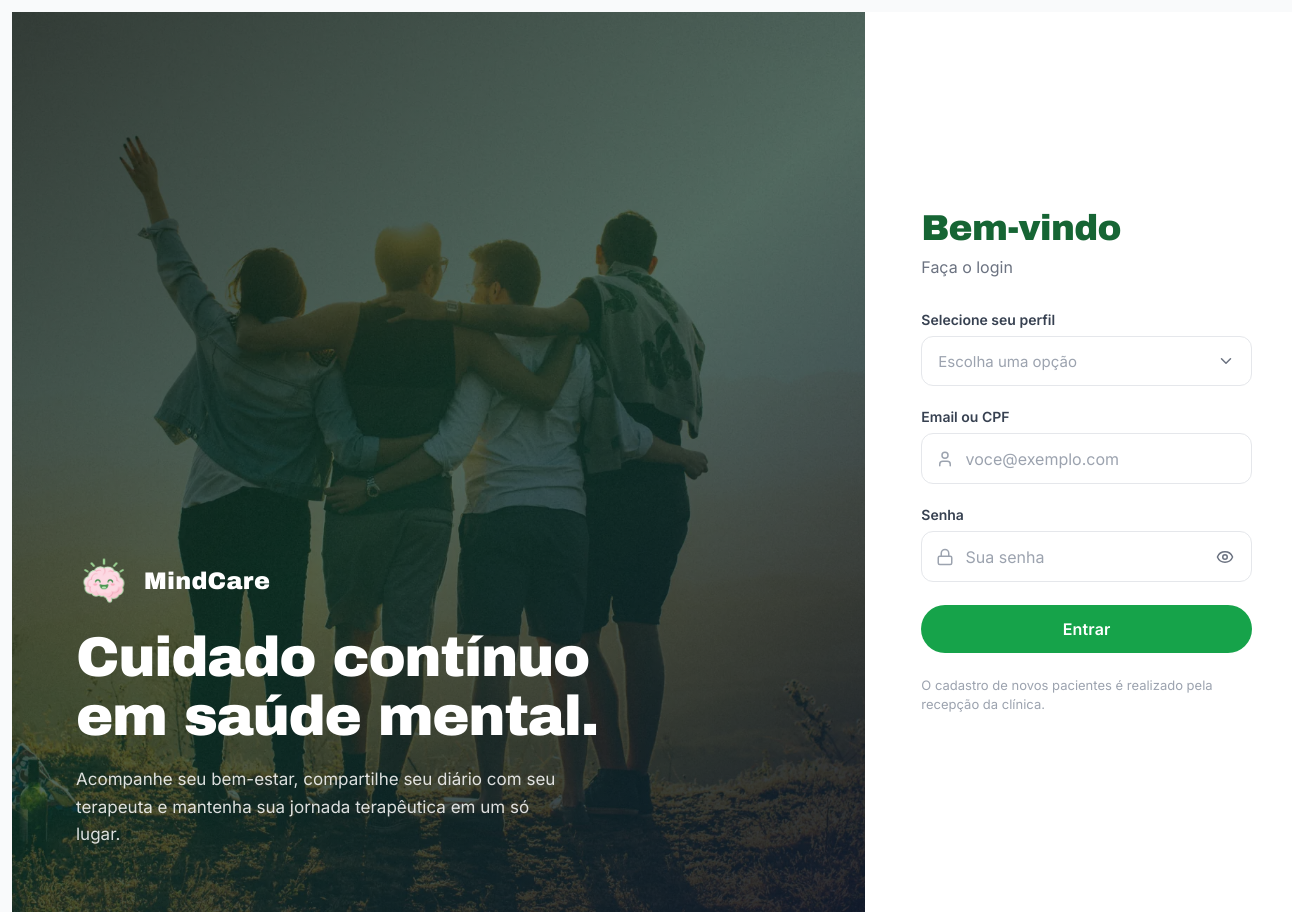
Test case: Tela de Login › redireciona paciente autenticado
Click the button "Escolha uma opção" at (1008,361), box [921,336,1252,386]
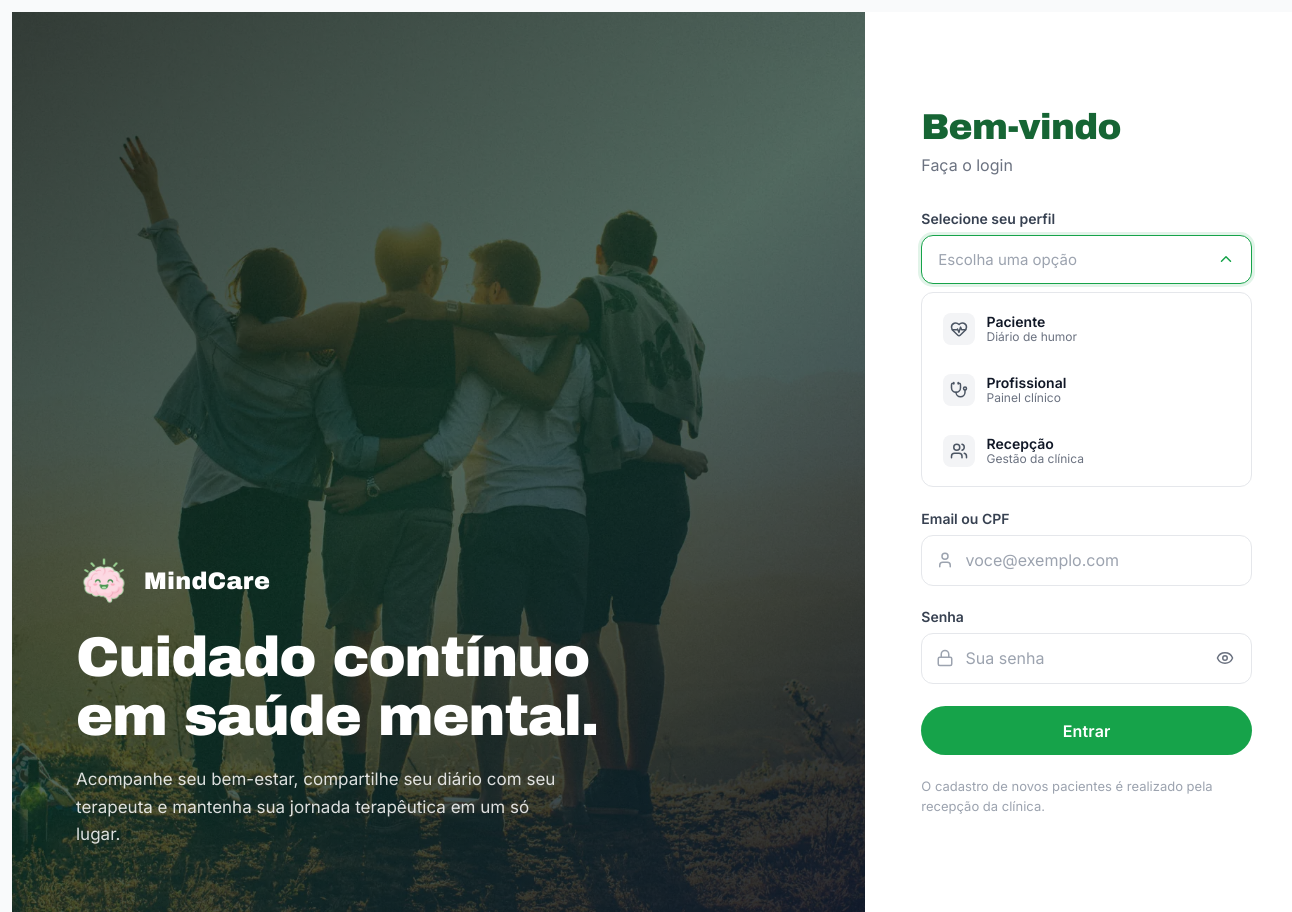
Click the option "Paciente Diário de humor" at (959,329), box [930,301,1243,356]
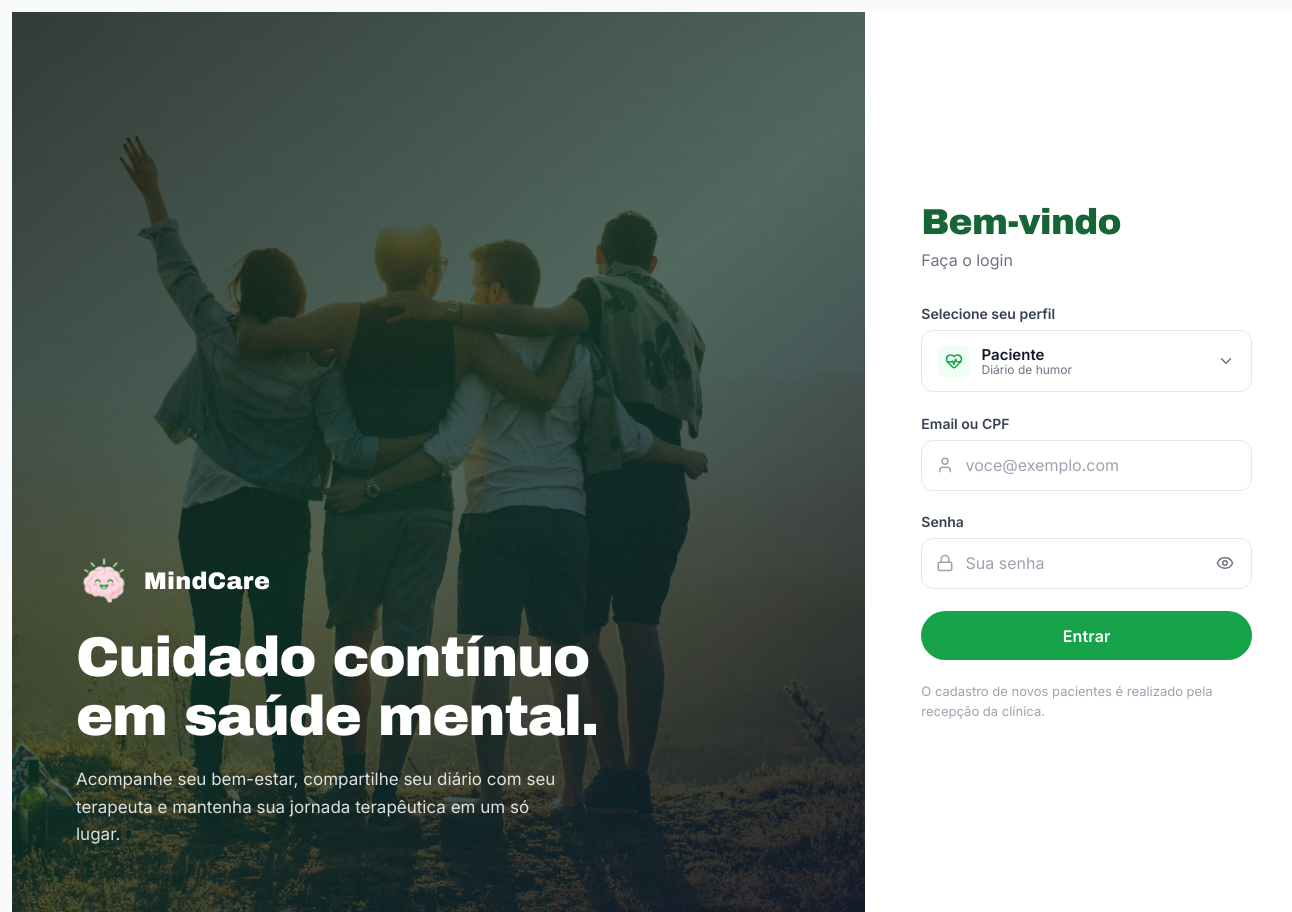
Type "usuario@teste.com" into the field labelled "Email ou CPF" at (1087,465), box [921,440,1252,491]
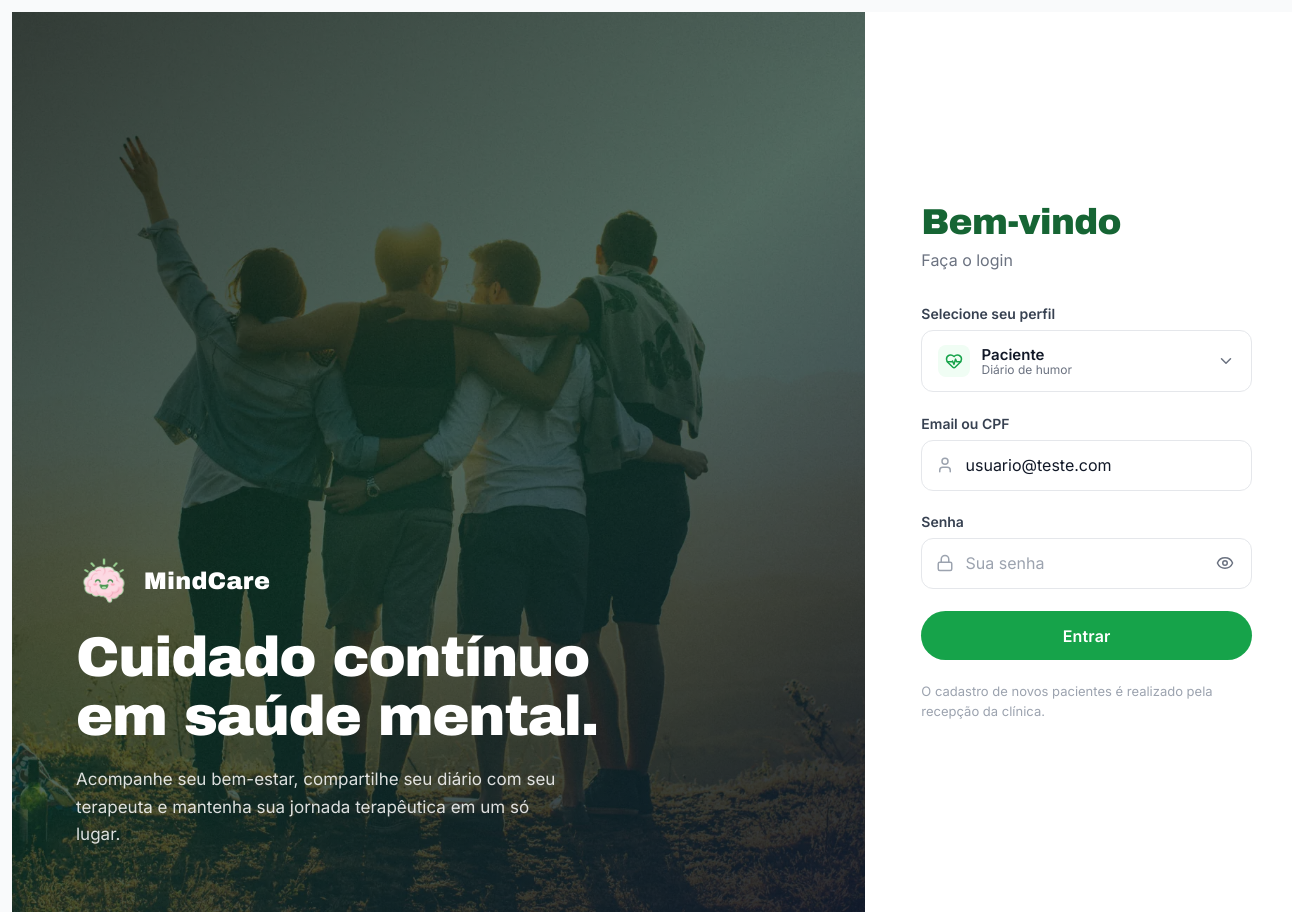
Type "senhaTeste" into the password field labelled "Senha" at (1087,563), box [921,538,1252,589]
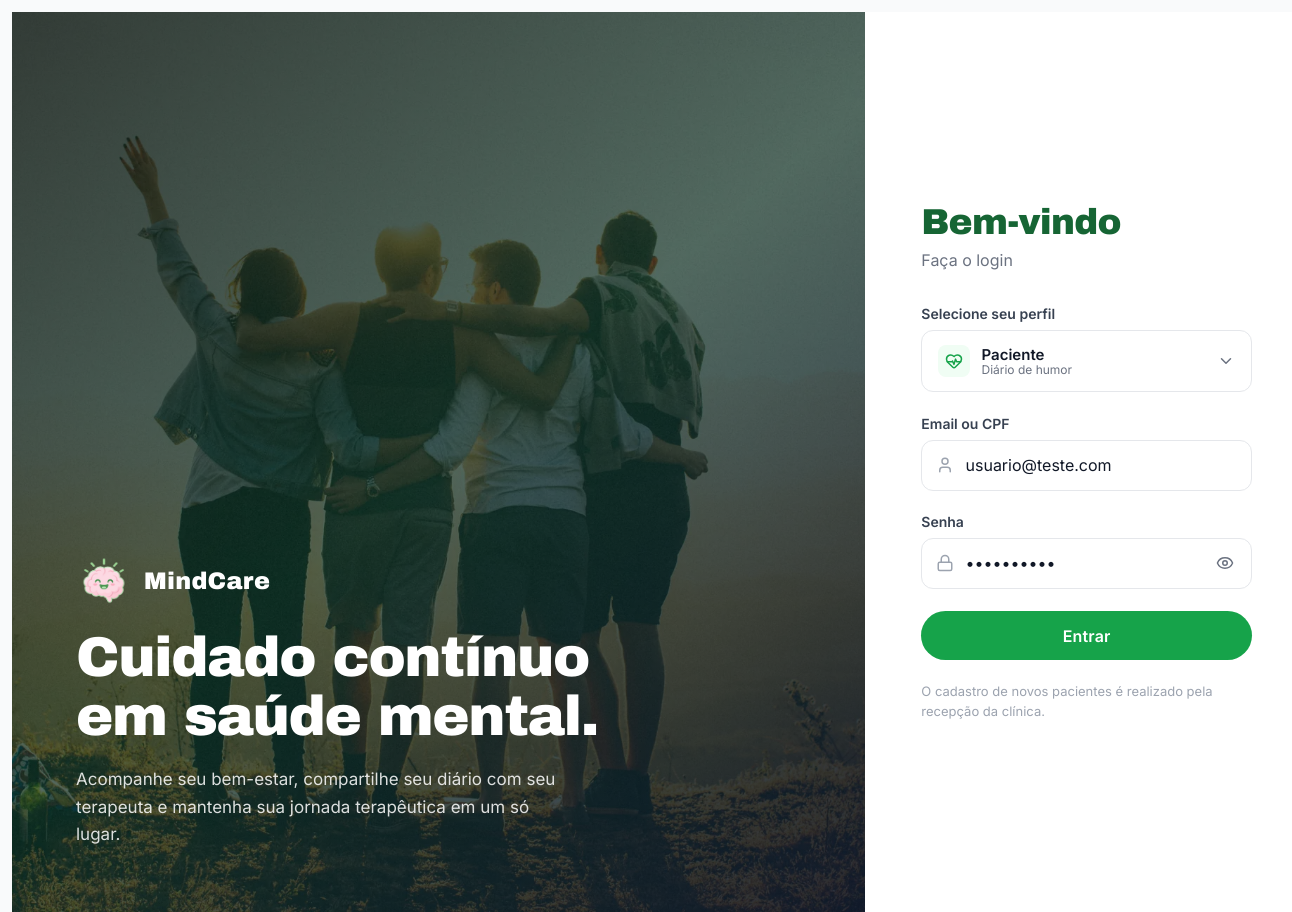
Click the button "Entrar" at (1087,636), box [921,611,1252,660]
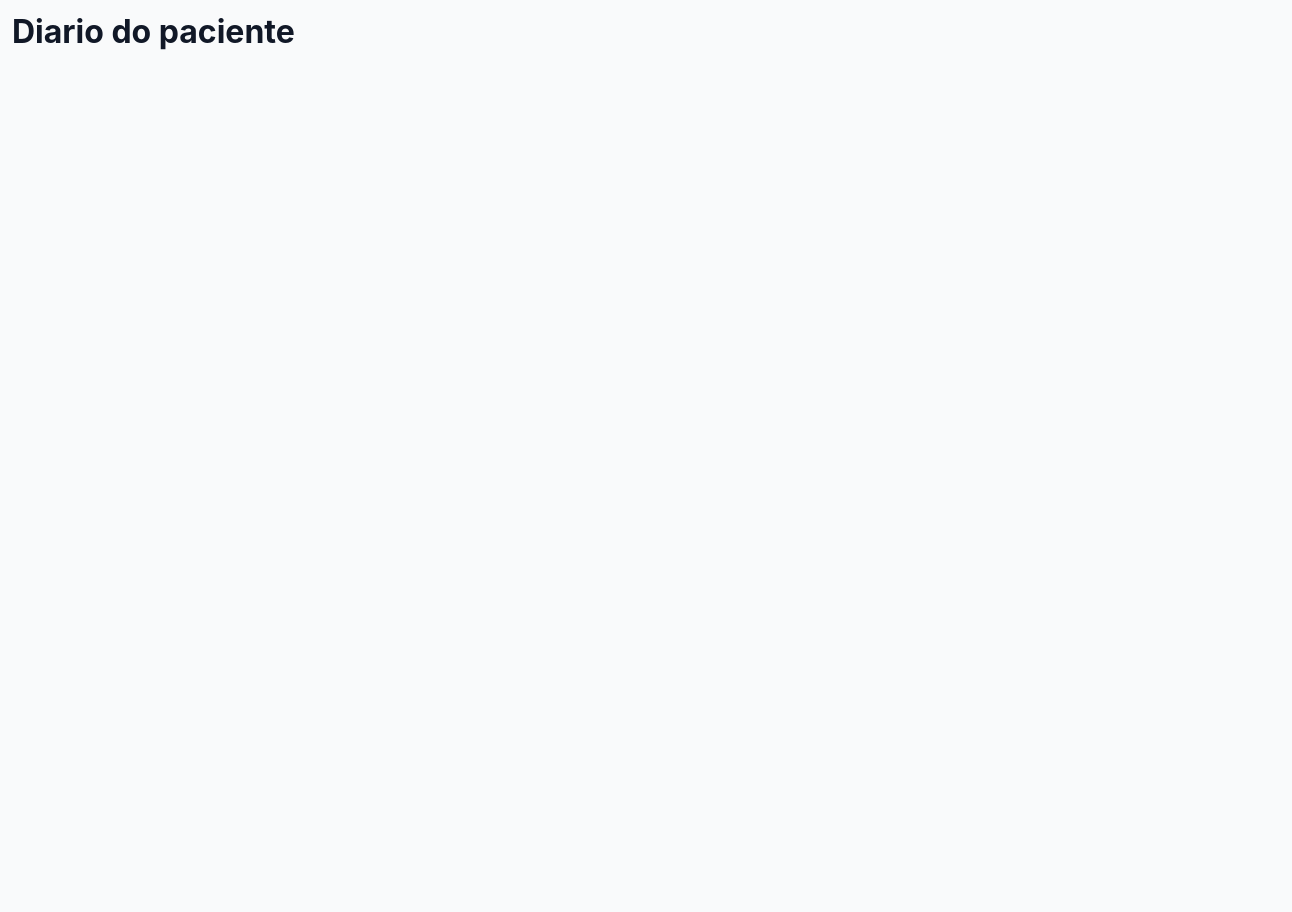
Expected: the heading "Diario do paciente" is shown, [12,12,295,51]
